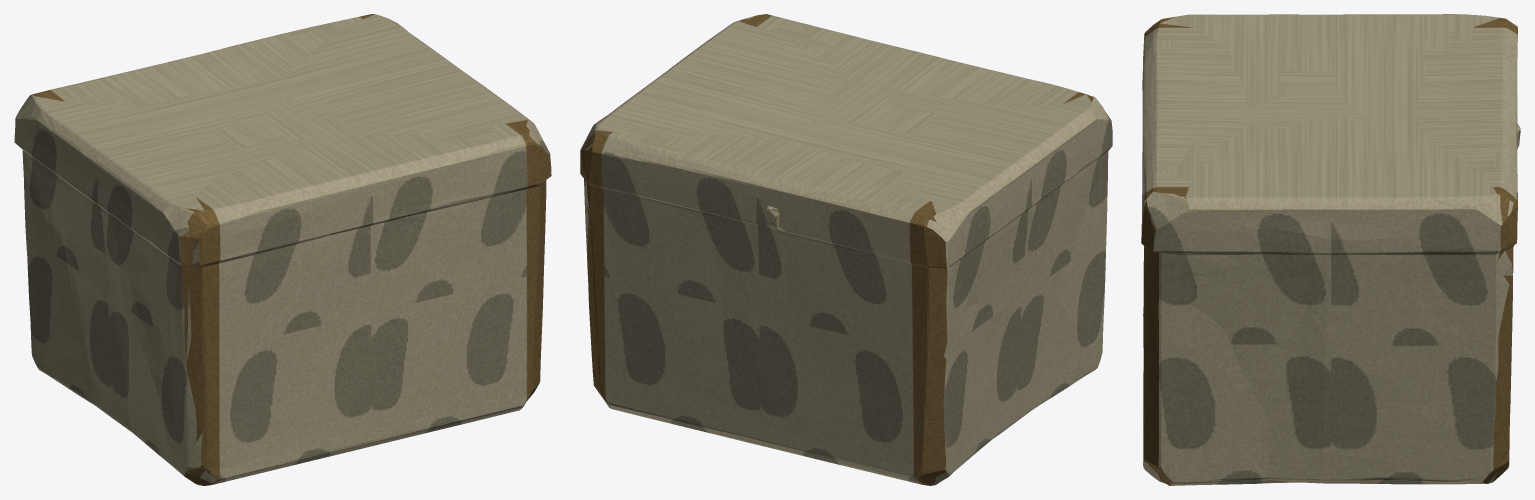
Rendered from ice_box_styrofoam_reduced.glb.
3 renders of one model, left to right at view 1: azimuth 30°, elevation 25°; view 2: azimuth 150°, elevation 25°; view 3: azimuth 270°, elevation 25°, orthographic. The views are drawn at different scales.
Visible parts, largest first — view 1: DirtyFoamAllSides; view 2: DirtyFoamAllSides; view 3: DirtyFoamAllSides.
Part boxes in pixels (left/top/right/bottom): DirtyFoamAllSides: left=14, top=14, right=551, bottom=485; DirtyFoamAllSides: left=580, top=14, right=1112, bottom=485; DirtyFoamAllSides: left=1141, top=14, right=1520, bottom=485.
Bounding box in the file's own units: 1.99 × 1.41 × 1.65.
Materials: 1 (1 with a texture image).
